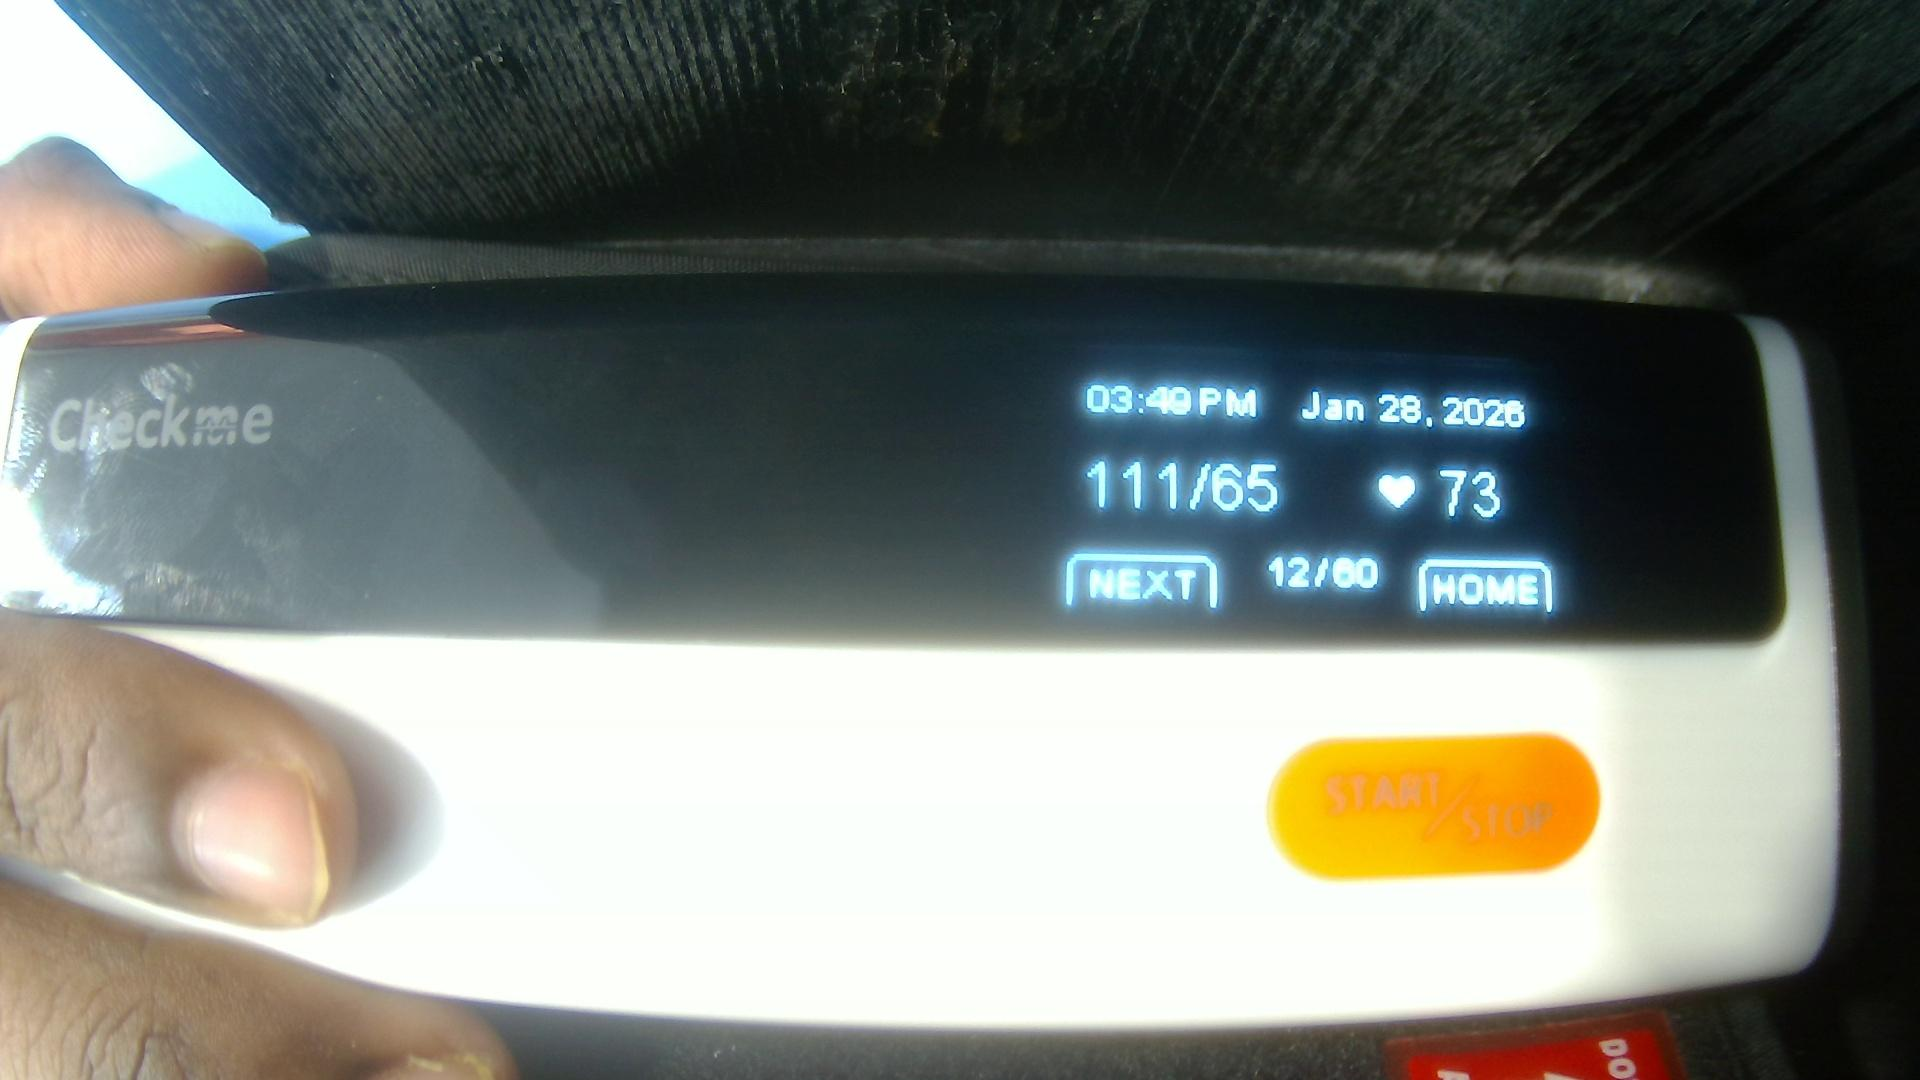DISPLAY: (20, 316, 1766, 631)
